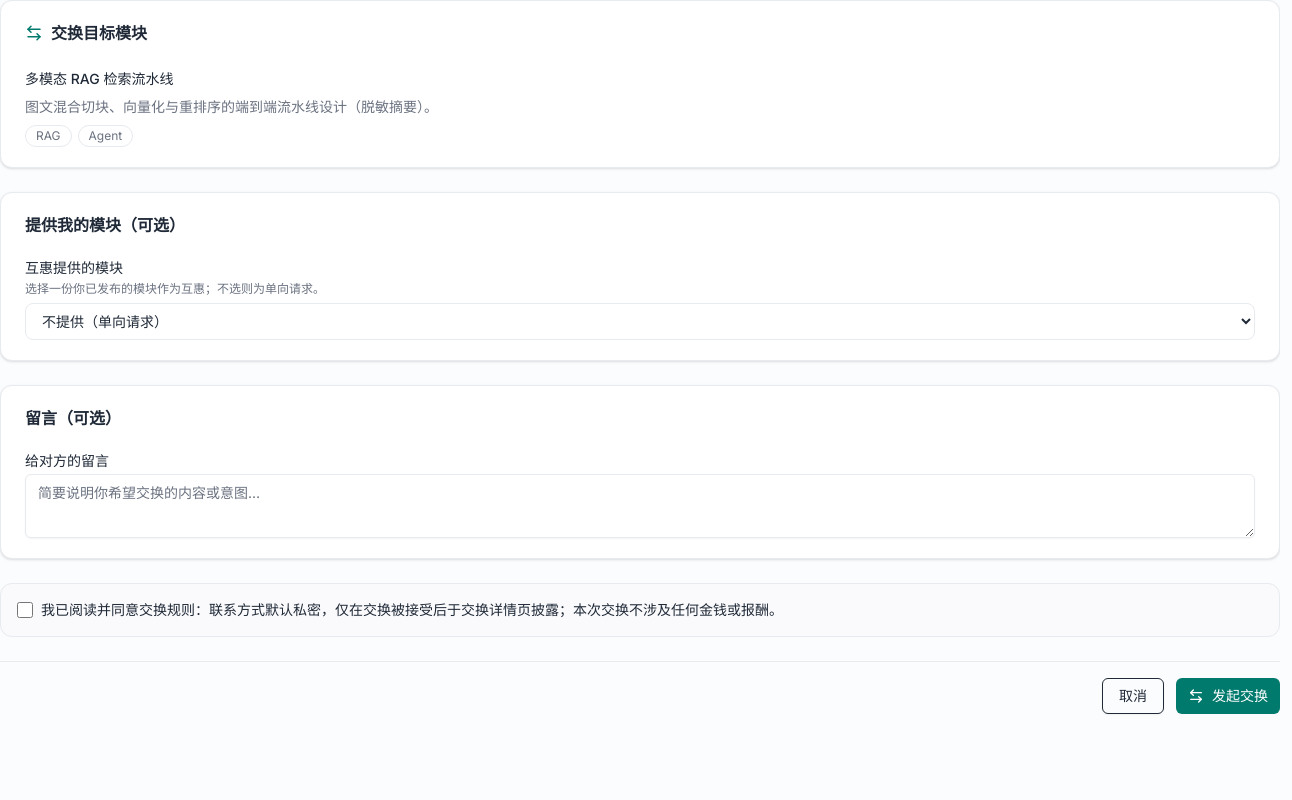
ExchangeCreateForm（PAGE-031b 集成） › 缺同意勾选 → 阻断提交并报错（INV-08）
Expected: the text "多模态 RAG 检索流水线" is shown, [25,70,173,87]
Click the button "发起交换".
click(1228, 696)  # box [1176,678,1280,714]
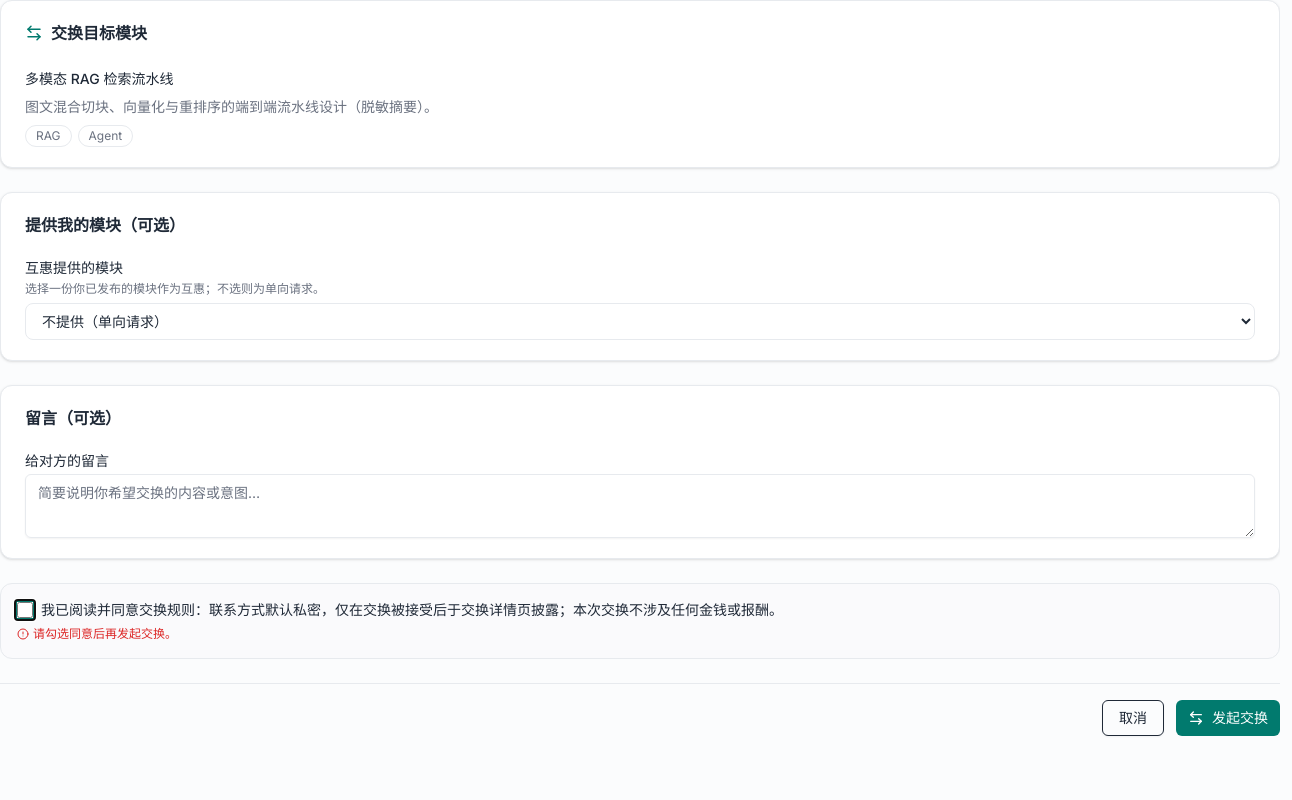
Expected: the text "请勾选同意后再发起交换。" is shown, [17,626,177,641]
